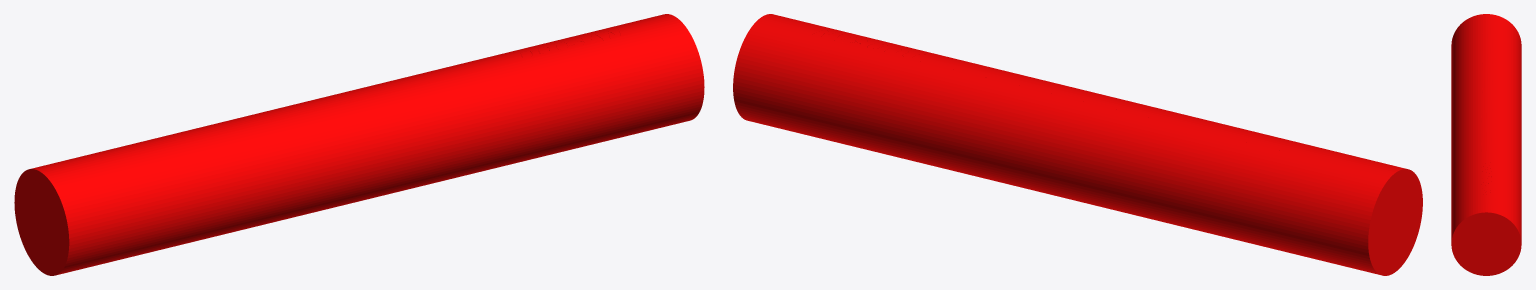
The picture shows the model from 3 angles, left to right: view 1: azimuth 30°, elevation 25°; view 2: azimuth 150°, elevation 25°; view 3: azimuth 270°, elevation 25°; orthographic projection. The views are drawn at different scales.
Parts seen in each view (by area): view 1: MF0617_2_1, Doosan_Mark; view 2: MF0617_2_1, Doosan_Mark; view 3: MF0617_2_1, Doosan_Mark.
Part boxes in pixels (x1,y1,x2,y2): MF0617_2_1: (14, 14, 704, 275); Doosan_Mark: (514, 29, 620, 61); MF0617_2_1: (733, 14, 1422, 275); Doosan_Mark: (812, 30, 927, 59); MF0617_2_1: (1451, 14, 1521, 275); Doosan_Mark: (1481, 161, 1491, 195).
Bounding box in the file's own units: 670 × 99.99 × 99.98.
